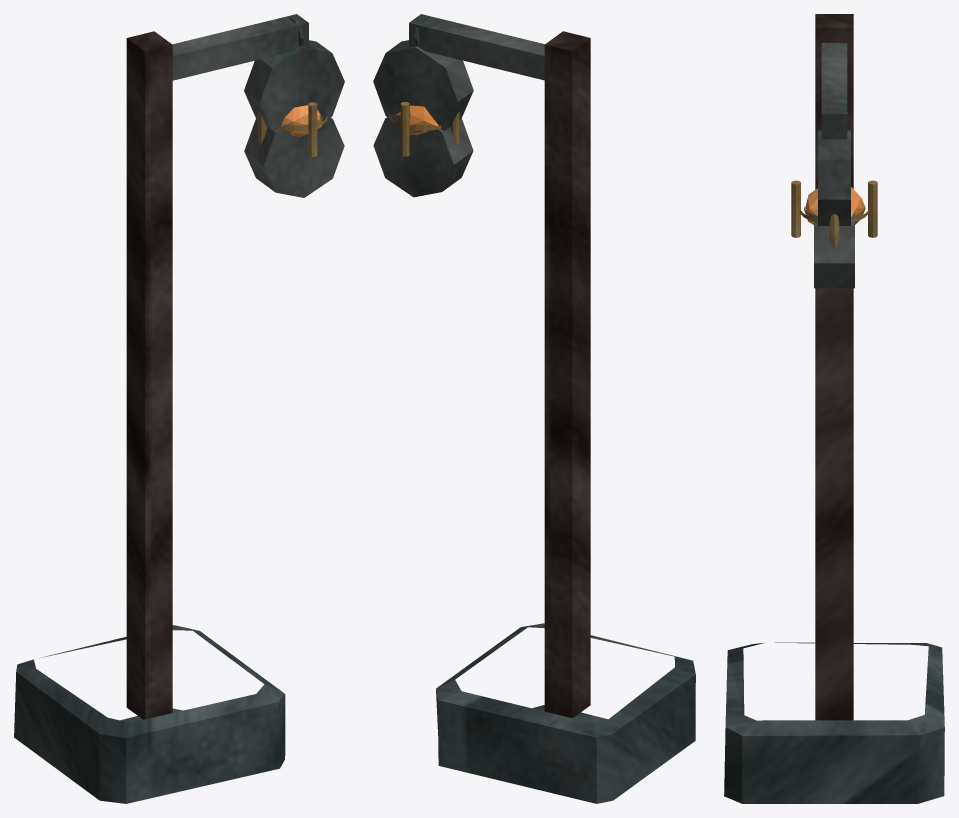
The model's file is 0702_lantern_post_02.glb.
3 renders of one model, left to right at view 1: azimuth 30°, elevation 25°; view 2: azimuth 150°, elevation 25°; view 3: azimuth 270°, elevation 25°, orthographic. The views are drawn at different scales.
Visible parts, largest first — view 1: wood_dark, stone_dark, iron, brass, amber; view 2: wood_dark, stone_dark, iron, brass; view 3: stone_dark, wood_dark, iron, brass, amber.
Part boxes in pixels (left/top/right/bottom): wood_dark: left=126, top=31, right=172, bottom=719; stone_dark: left=14, top=625, right=285, bottom=803; iron: left=172, top=14, right=344, bottom=197; brass: left=258, top=102, right=328, bottom=157; amber: left=281, top=105, right=321, bottom=136; wood_dark: left=544, top=31, right=590, bottom=718; stone_dark: left=436, top=623, right=695, bottom=803; iron: left=373, top=14, right=544, bottom=197; brass: left=389, top=102, right=459, bottom=156; stone_dark: left=724, top=642, right=944, bottom=803; wood_dark: left=815, top=14, right=853, bottom=720; iron: left=814, top=43, right=854, bottom=288; brass: left=791, top=180, right=877, bottom=248; amber: left=805, top=187, right=865, bottom=224.
Bounding box in the file's own units: 1.31 × 3.21 × 0.8633.
Materials: 5 (5 with a texture image).
